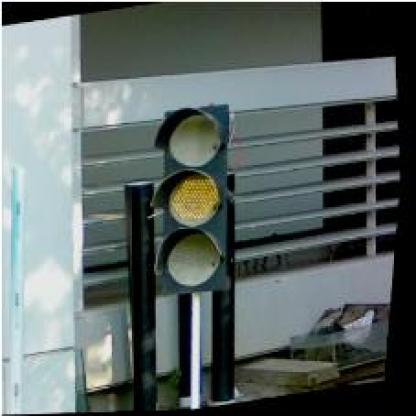yellow: (138, 102, 250, 298)
